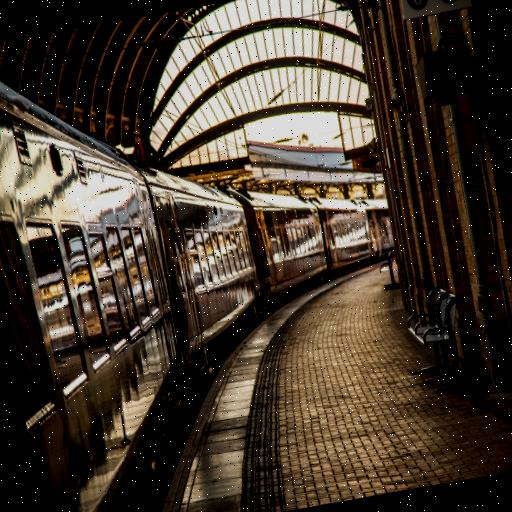platform_edge: (99, 275, 338, 512)
